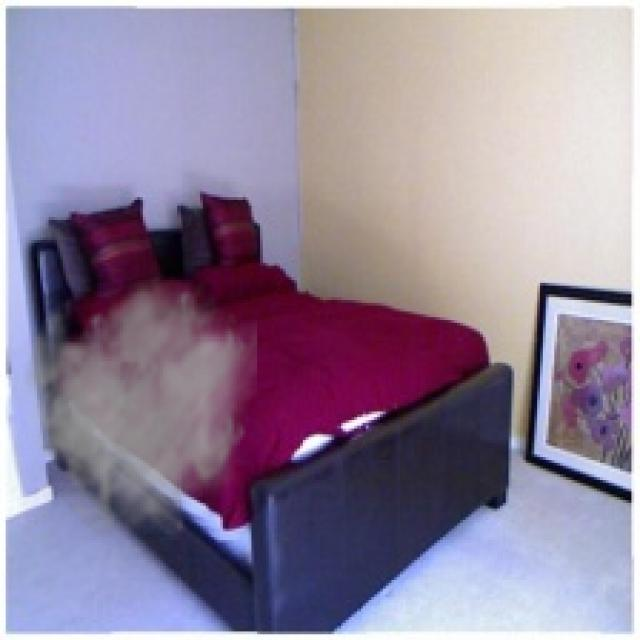smoke: (9, 271, 257, 543)
